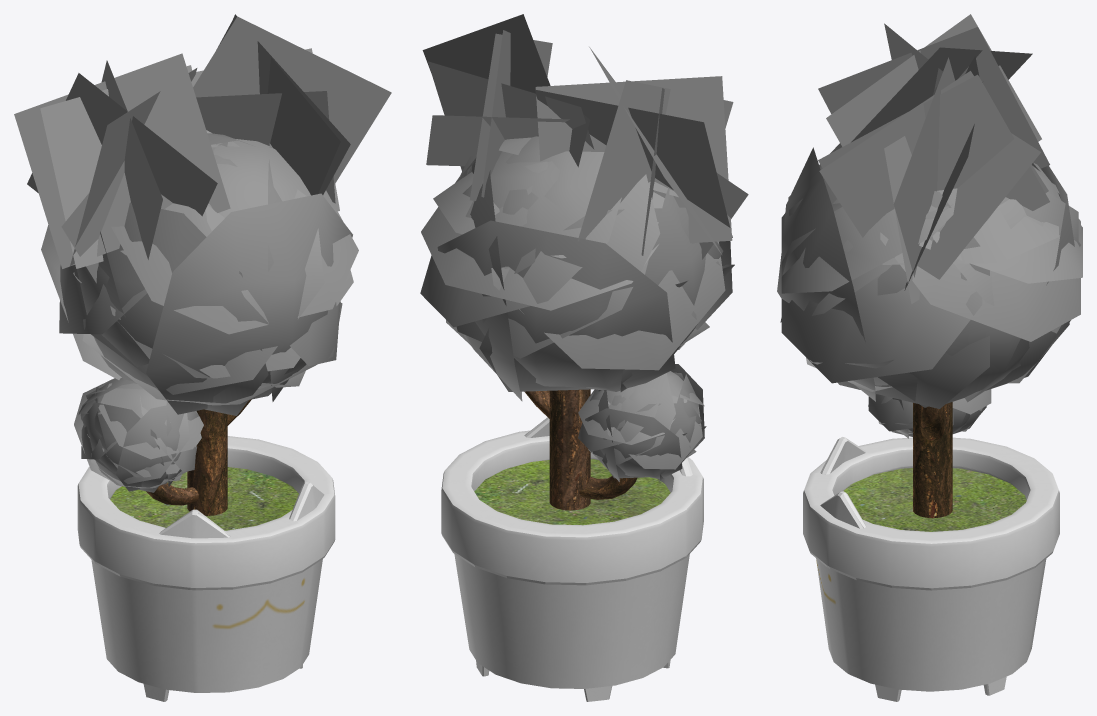
The model's file is Modelling_Pot_object.FBX.
3 views of the same model, side by side, from view 1: azimuth 30°, elevation 25°; view 2: azimuth 150°, elevation 25°; view 3: azimuth 270°, elevation 25° (orthographic). The views are drawn at different scales.
Visible parts, largest first — view 1: Pot(1), Plane007, ear(6), Plane001, ear(2), Plane003, ear(7) (×2), ear(10), ear(1), ear(5), Plane002, Plane035 (+13 smaller); view 2: Pot(1), Plane013, ear(7) (×2), Plane009, Plane010, ear(8), Plane008, Plane011, ear(2), ear(6) (×2), ear(3), Plane003 (+18 smaller); view 3: Pot(1), Plane004, ear(6) (×2), Plane009, ear(1), Plane007, ear(4), Plane012, Plane001, ear(7), ear(2), Plane005 (+11 smaller).
Part boxes in pixels (x1,y1,x2,y2): Pot(1): (77, 399, 335, 701); Plane007: (146, 193, 352, 414); ear(6): (14, 53, 230, 268); Plane001: (111, 139, 358, 334); ear(2): (193, 16, 391, 184); Plane003: (77, 202, 268, 415); ear(7) (×2): (40, 60, 192, 268); ear(10): (27, 73, 217, 216); ear(1): (233, 14, 340, 195); ear(5): (196, 91, 335, 203); Plane002: (83, 141, 324, 394); Plane035: (116, 404, 200, 491); Pot(1): (441, 389, 703, 701); Plane013: (437, 220, 675, 391); ear(7) (×2): (535, 80, 733, 241); Plane009: (420, 151, 621, 327); Plane010: (456, 136, 660, 358); ear(8): (535, 76, 732, 243); Plane008: (491, 202, 725, 370); Plane011: (421, 161, 664, 310); ear(2): (422, 14, 550, 93); ear(6) (×2): (426, 47, 721, 254); ear(3): (428, 61, 594, 171); Plane003: (620, 187, 707, 391); Pot(1): (803, 402, 1059, 701); Plane004: (781, 166, 982, 383); ear(6) (×2): (851, 47, 1040, 279); Plane009: (880, 163, 1080, 341); ear(1): (818, 74, 1049, 210); Plane007: (777, 147, 875, 401); ear(4): (819, 71, 1048, 237); Plane012: (877, 192, 1078, 407); Plane001: (781, 179, 957, 293); ear(7): (818, 27, 1049, 168); ear(2): (893, 57, 955, 277); Plane005: (789, 180, 989, 408).
Bounding box in the file's own units: 63.63 × 118 × 52.33.
